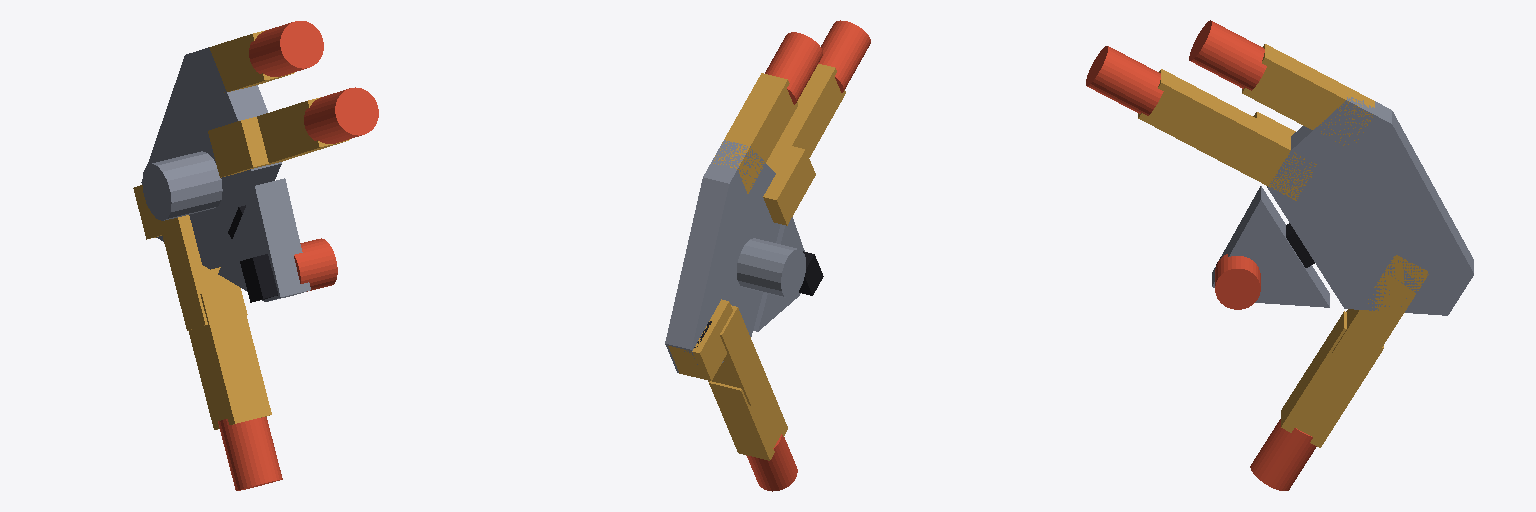
The robot description file, URDF, robot "g0004_c04":
<robot name="g0004_c04">
  <link name="palm">
    <visual name="palm_palm1">
      <origin xyz="0 0 0" rpy="0 0 0" />
      <geometry>
        <mesh filename="palm_palm1.obj" />
      </geometry>
      <material name="palm_palm1_mat">
        <color rgba="0.55 0.57 0.62 1" />
      </material>
    </visual>
    <collision>
      <origin xyz="0 0 0" rpy="0 0 0" />
      <geometry>
        <mesh filename="palm_palm1.obj" />
      </geometry>
    </collision>
    <visual name="palm_mount2">
      <origin xyz="0 0 0" rpy="0 0 0" />
      <geometry>
        <mesh filename="palm_mount2.obj" />
      </geometry>
      <material name="palm_mount2_mat">
        <color rgba="0.55 0.57 0.62 1" />
      </material>
    </visual>
    <collision>
      <origin xyz="0 0 0" rpy="0 0 0" />
      <geometry>
        <mesh filename="palm_mount2.obj" />
      </geometry>
    </collision>
    <visual name="palm_hinge3">
      <origin xyz="0 -0.0281458256 -0.01625" rpy="1.57079633 -1.04719755 -1.57079633" />
      <geometry>
        <box size="0.029 0.034 0.02" />
      </geometry>
      <material name="palm_hinge3_mat">
        <color rgba="0.15 0.15 0.17 1" />
      </material>
    </visual>
    <collision>
      <origin xyz="0 -0.0281458256 -0.01625" rpy="1.57079633 -1.04719755 -1.57079633" />
      <geometry>
        <box size="0.029 0.034 0.02" />
      </geometry>
    </collision>
    <visual name="palm_motor4">
      <origin xyz="0 -0.0335048095 0.03625" rpy="-1.57079633 -1.04719755 1.57079633" />
      <geometry>
        <box size="0.029 0.034 0.02" />
      </geometry>
      <material name="palm_motor4_mat">
        <color rgba="0.15 0.15 0.17 1" />
      </material>
    </visual>
    <collision>
      <origin xyz="0 -0.0335048095 0.03625" rpy="-1.57079633 -1.04719755 1.57079633" />
      <geometry>
        <box size="0.029 0.034 0.02" />
      </geometry>
    </collision>
    <visual name="palm_motor5">
      <origin xyz="0 0.00649519053 0.07625" rpy="-1.57079633 -1.04719755 1.57079633" />
      <geometry>
        <box size="0.029 0.034 0.02" />
      </geometry>
      <material name="palm_motor5_mat">
        <color rgba="0.15 0.15 0.17 1" />
      </material>
    </visual>
    <collision>
      <origin xyz="0 0.00649519053 0.07625" rpy="-1.57079633 -1.04719755 1.57079633" />
      <geometry>
        <box size="0.029 0.034 0.02" />
      </geometry>
    </collision>
    <visual name="palm_motor6">
      <origin xyz="-0.0045 0.0666996732 -0.0467548095" rpy="1.57079633 -0.523598776 -1.57079633" />
      <geometry>
        <box size="0.029 0.034 0.02" />
      </geometry>
      <material name="palm_motor6_mat">
        <color rgba="0.15 0.15 0.17 1" />
      </material>
    </visual>
    <collision>
      <origin xyz="-0.0045 0.0666996732 -0.0467548095" rpy="1.57079633 -0.523598776 -1.57079633" />
      <geometry>
        <box size="0.029 0.034 0.02" />
      </geometry>
    </collision>
    <inertial>
      <origin xyz="-4.78273951e-19 0.0154247075 0.00630883502" rpy="1.57079633 1.06011434 1.57079633" />
      <mass value="0.645684539" />
      <inertia ixx="0.000518185012" ixy="0" ixz="0" iyy="0.00138153175" iyz="0" izz="0.00183773105" />
    </inertial>
  </link>
  <link name="palm0">
    <visual name="palm0_palm1">
      <origin xyz="0 0 0" rpy="0 0 0" />
      <geometry>
        <mesh filename="palm0_palm1.obj" />
      </geometry>
      <material name="palm0_palm1_mat">
        <color rgba="0.55 0.57 0.62 1" />
      </material>
    </visual>
    <collision>
      <origin xyz="0 0 0" rpy="0 0 0" />
      <geometry>
        <mesh filename="palm0_palm1.obj" />
      </geometry>
    </collision>
    <visual name="palm0_motor2">
      <origin xyz="-0.007 -0.0453589838 -0.02" rpy="1.06057524e-16 -1.04719755 1.57079633" />
      <geometry>
        <box size="0.029 0.034 0.02" />
      </geometry>
      <material name="palm0_motor2_mat">
        <color rgba="0.15 0.15 0.17 1" />
      </material>
    </visual>
    <collision>
      <origin xyz="-0.007 -0.0453589838 -0.02" rpy="1.06057524e-16 -1.04719755 1.57079633" />
      <geometry>
        <box size="0.029 0.034 0.02" />
      </geometry>
    </collision>
    <inertial>
      <origin xyz="4.09649473e-19 -0.0243405859 -0.0132614619" rpy="1.57079633 1.00332897 1.57079633" />
      <mass value="0.150769922" />
      <inertia ixx="4.64195812e-05" ixy="0" ixz="0" iyy="7.19391099e-05" iyz="0" izz="0.000103884779" />
    </inertial>
  </link>
  <link name="f0_link0">
    <visual name="f0_link0_link1">
      <origin xyz="0.019 0 -6.9388939e-18" rpy="-1.57079633 -0 -1.57079633" />
      <geometry>
        <cylinder radius="0.0165" length="0.029" />
      </geometry>
      <material name="f0_link0_link1_mat">
        <color rgba="0.85 0.35 0.25 1" />
      </material>
    </visual>
    <collision>
      <origin xyz="0.019 0 -6.9388939e-18" rpy="-1.57079633 -0 -1.57079633" />
      <geometry>
        <cylinder radius="0.0165" length="0.029" />
      </geometry>
    </collision>
    <inertial>
      <origin xyz="0.019 0 0" rpy="0 0 0" />
      <mass value="0.0763354" />
      <inertia ixx="9.49466441e-06" ixy="0" ixz="0" iyy="2.24143997e-05" iyz="0" izz="2.24143997e-05" />
    </inertial>
  </link>
  <link name="f1_link0">
    <visual name="f1_link0_link1">
      <origin xyz="0.014 -0.00625 -3.46944695e-18" rpy="0 7.03853194e-17 0" />
      <geometry>
        <box size="0.052 0.0365 0.033" />
      </geometry>
      <material name="f1_link0_link1_mat">
        <color rgba="0.80 0.62 0.30 1" />
      </material>
    </visual>
    <collision>
      <origin xyz="0.014 -0.00625 -3.46944695e-18" rpy="0 7.03853194e-17 0" />
      <geometry>
        <box size="0.052 0.0365 0.033" />
      </geometry>
    </collision>
    <inertial>
      <origin xyz="0.014 -0.00625 0" rpy="0 0 0" />
      <mass value="0.1096095" />
      <inertia ixx="2.21160002e-05" ixy="0" ixz="0" iyy="3.46457361e-05" iyz="0" izz="3.6867612e-05" />
    </inertial>
  </link>
  <link name="f1_link1">
    <visual name="f1_link1_link1">
      <origin xyz="0.03875 0 1.73472348e-18" rpy="0 7.03853194e-17 0" />
      <geometry>
        <box size="0.1015 0.024 0.033" />
      </geometry>
      <material name="f1_link1_link1_mat">
        <color rgba="0.80 0.62 0.30 1" />
      </material>
    </visual>
    <collision>
      <origin xyz="0.03875 0 1.73472348e-18" rpy="0 7.03853194e-17 0" />
      <geometry>
        <box size="0.1015 0.024 0.033" />
      </geometry>
    </collision>
    <inertial>
      <origin xyz="0.03875 0 0" rpy="0 0 0" />
      <mass value="0.140679" />
      <inertia ixx="1.95192113e-05" ixy="0" ixz="0" iyy="0.000133542472" iyz="0" izz="0.000127528444" />
    </inertial>
  </link>
  <link name="f1_link2">
    <visual name="f1_link2_link1">
      <origin xyz="0.029 0 1.12757026e-17" rpy="-1.57079633 -0 -1.57079633" />
      <geometry>
        <cylinder radius="0.0165" length="0.049" />
      </geometry>
      <material name="f1_link2_link1_mat">
        <color rgba="0.85 0.35 0.25 1" />
      </material>
    </visual>
    <collision>
      <origin xyz="0.029 0 1.12757026e-17" rpy="-1.57079633 -0 -1.57079633" />
      <geometry>
        <cylinder radius="0.0165" length="0.049" />
      </geometry>
    </collision>
    <inertial>
      <origin xyz="0.029 0 0" rpy="0 0 0" />
      <mass value="0.106270851" />
      <inertia ixx="1.35696277e-05" ixy="0" ixz="0" iyy="5.30015704e-05" iyz="0" izz="5.30015704e-05" />
    </inertial>
  </link>
  <link name="f2_link0">
    <visual name="f2_link0_link1">
      <origin xyz="0.03375 0 0" rpy="0 7.03853194e-17 0" />
      <geometry>
        <box size="0.0915 0.024 0.033" />
      </geometry>
      <material name="f2_link0_link1_mat">
        <color rgba="0.80 0.62 0.30 1" />
      </material>
    </visual>
    <collision>
      <origin xyz="0.03375 0 0" rpy="0 7.03853194e-17 0" />
      <geometry>
        <box size="0.0915 0.024 0.033" />
      </geometry>
    </collision>
    <inertial>
      <origin xyz="0.03375 0 0" rpy="0 0 0" />
      <mass value="0.126819" />
      <inertia ixx="1.75961363e-05" ixy="0" ixz="0" iyy="9.99888553e-05" iyz="0" izz="9.45673431e-05" />
    </inertial>
  </link>
  <link name="f2_link1">
    <visual name="f2_link1_link1">
      <origin xyz="0.029 0 -6.9388939e-18" rpy="-1.57079633 -0 -1.57079633" />
      <geometry>
        <cylinder radius="0.0165" length="0.049" />
      </geometry>
      <material name="f2_link1_link1_mat">
        <color rgba="0.85 0.35 0.25 1" />
      </material>
    </visual>
    <collision>
      <origin xyz="0.029 0 -6.9388939e-18" rpy="-1.57079633 -0 -1.57079633" />
      <geometry>
        <cylinder radius="0.0165" length="0.049" />
      </geometry>
    </collision>
    <inertial>
      <origin xyz="0.029 0 0" rpy="0 0 0" />
      <mass value="0.106270851" />
      <inertia ixx="1.35696277e-05" ixy="0" ixz="0" iyy="5.30015704e-05" iyz="0" izz="5.30015704e-05" />
    </inertial>
  </link>
  <link name="f3_link0">
    <visual name="f3_link0_link1">
      <origin xyz="-0.00625 0 -0.0165" rpy="0 4.06369831e-17 0" />
      <geometry>
        <box size="0.0365 0.029 0.053" />
      </geometry>
      <material name="f3_link0_link1_mat">
        <color rgba="0.80 0.62 0.30 1" />
      </material>
    </visual>
    <collision>
      <origin xyz="-0.00625 0 -0.0165" rpy="0 4.06369831e-17 0" />
      <geometry>
        <box size="0.0365 0.029 0.053" />
      </geometry>
    </collision>
    <inertial>
      <origin xyz="-0.00625 0 -0.0165" rpy="0 0 0" />
      <mass value="0.098175875" />
      <inertia ixx="2.98618286e-05" ixy="0" ixz="0" iyy="3.38809035e-05" iyz="0" izz="1.778006e-05" />
    </inertial>
  </link>
  <link name="f3_link1">
    <visual name="f3_link1_link1">
      <origin xyz="0.03375 0 6.9388939e-18" rpy="0 4.06369831e-17 0" />
      <geometry>
        <box size="0.0915 0.033 0.029" />
      </geometry>
      <material name="f3_link1_link1_mat">
        <color rgba="0.80 0.62 0.30 1" />
      </material>
    </visual>
    <collision>
      <origin xyz="0.03375 0 6.9388939e-18" rpy="0 4.06369831e-17 0" />
      <geometry>
        <box size="0.0915 0.033 0.029" />
      </geometry>
    </collision>
    <inertial>
      <origin xyz="0.03375 0 0" rpy="0 0 0" />
      <mass value="0.153239625" />
      <inertia ixx="2.46460397e-05" ixy="0" ixz="0" iyy="0.000117652915" iyz="0" izz="0.000120819867" />
    </inertial>
  </link>
  <link name="f3_link2">
    <visual name="f3_link2_link1">
      <origin xyz="0.03375 0 -1.38777878e-17" rpy="0 4.06369831e-17 0" />
      <geometry>
        <box size="0.0915 0.029 0.033" />
      </geometry>
      <material name="f3_link2_link1_mat">
        <color rgba="0.80 0.62 0.30 1" />
      </material>
    </visual>
    <collision>
      <origin xyz="0.03375 0 -1.38777878e-17" rpy="0 4.06369831e-17 0" />
      <geometry>
        <box size="0.0915 0.029 0.033" />
      </geometry>
    </collision>
    <inertial>
      <origin xyz="0.03375 0 0" rpy="0 0 0" />
      <mass value="0.153239625" />
      <inertia ixx="2.46460397e-05" ixy="0" ixz="0" iyy="0.000120819867" iyz="0" izz="0.000117652915" />
    </inertial>
  </link>
  <link name="f3_link3">
    <visual name="f3_link3_link1">
      <origin xyz="0.029 0 1.04083409e-17" rpy="-1.57079633 -0 -1.57079633" />
      <geometry>
        <cylinder radius="0.0165" length="0.049" />
      </geometry>
      <material name="f3_link3_link1_mat">
        <color rgba="0.85 0.35 0.25 1" />
      </material>
    </visual>
    <collision>
      <origin xyz="0.029 0 1.04083409e-17" rpy="-1.57079633 -0 -1.57079633" />
      <geometry>
        <cylinder radius="0.0165" length="0.049" />
      </geometry>
    </collision>
    <inertial>
      <origin xyz="0.029 0 0" rpy="0 0 0" />
      <mass value="0.106270851" />
      <inertia ixx="1.35696277e-05" ixy="0" ixz="0" iyy="5.30015704e-05" iyz="0" izz="5.30015704e-05" />
    </inertial>
  </link>
  <joint name="palm0_joint" type="revolute">
    <parent link="palm" />
    <child link="palm0" />
    <origin xyz="0 -0.0346410162 -0.02" rpy="0 0 0" />
    <axis xyz="0 -0.5 0.866025404" />
    <limit effort="0.5" lower="-0.523598776" upper="0.523598776" velocity="5" />
    <dynamics damping="0.0775033" friction="0" />
  </joint>
  <joint name="f0_j0" type="revolute">
    <parent link="palm0" />
    <child link="f0_link0" />
    <origin xyz="0.0005 -0.0453589838 -0.02" rpy="1.04719755 5.30287619e-17 -3.061617e-17" />
    <axis xyz="0 1 6.123234e-17" />
    <limit effort="0.5" lower="-0.523598776" upper="0.523598776" velocity="5" />
    <dynamics damping="0.0775033" friction="0" />
  </joint>
  <joint name="f1_j0" type="revolute">
    <parent link="palm" />
    <child link="f1_link0" />
    <origin xyz="0 -0.04 0.04" rpy="-0 -0.523598776 -1.57079633" />
    <axis xyz="0 0 1" />
    <limit effort="0.5" lower="-0.523598776" upper="1.57079633" velocity="5" />
    <dynamics damping="0.0775033" friction="0" />
  </joint>
  <joint name="f1_j1" type="revolute">
    <parent link="f1_link0" />
    <child link="f1_link1" />
    <origin xyz="0.03 0 0" rpy="0 0 0" />
    <axis xyz="0 0 1" />
    <limit effort="0.5" lower="-0.523598776" upper="1.57079633" velocity="5" />
    <dynamics damping="0.0775033" friction="0" />
  </joint>
  <joint name="f1_j2" type="revolute">
    <parent link="f1_link1" />
    <child link="f1_link2" />
    <origin xyz="0.08 0 0" rpy="0 0 0" />
    <axis xyz="0 0 1" />
    <limit effort="0.5" lower="-0.523598776" upper="1.57079633" velocity="5" />
    <dynamics damping="0.0775033" friction="0" />
  </joint>
  <joint name="f2_j0" type="revolute">
    <parent link="palm" />
    <child link="f2_link0" />
    <origin xyz="0 0 0.08" rpy="-0 -0.523598776 -1.57079633" />
    <axis xyz="0 0 1" />
    <limit effort="0.5" lower="-0.523598776" upper="1.57079633" velocity="5" />
    <dynamics damping="0.0775033" friction="0" />
  </joint>
  <joint name="f2_j1" type="revolute">
    <parent link="f2_link0" />
    <child link="f2_link1" />
    <origin xyz="0.07 0 0" rpy="0 0 0" />
    <axis xyz="0 0 1" />
    <limit effort="0.5" lower="-0.523598776" upper="1.57079633" velocity="5" />
    <dynamics damping="0.0775033" friction="0" />
  </joint>
  <joint name="f3_j0" type="revolute">
    <parent link="palm" />
    <child link="f3_link0" />
    <origin xyz="-0.0045 0.04 -0.04" rpy="0 1.04719755 -1.57079633" />
    <axis xyz="0 0 1" />
    <limit effort="0.5" lower="-0.523598776" upper="1.57079633" velocity="5" />
    <dynamics damping="0.0775033" friction="0" />
  </joint>
  <joint name="f3_j1" type="revolute">
    <parent link="f3_link0" />
    <child link="f3_link1" />
    <origin xyz="0 0 0" rpy="0 0 0" />
    <axis xyz="0 1 6.123234e-17" />
    <limit effort="0.5" lower="-0.523598776" upper="0.523598776" velocity="5" />
    <dynamics damping="0.0775033" friction="0" />
  </joint>
  <joint name="f3_j2" type="revolute">
    <parent link="f3_link1" />
    <child link="f3_link2" />
    <origin xyz="0.07 0 0" rpy="0 0 0" />
    <axis xyz="0 0 1" />
    <limit effort="0.5" lower="-0.523598776" upper="1.57079633" velocity="5" />
    <dynamics damping="0.0775033" friction="0" />
  </joint>
  <joint name="f3_j3" type="revolute">
    <parent link="f3_link2" />
    <child link="f3_link3" />
    <origin xyz="0.07 0 0" rpy="0 0 0" />
    <axis xyz="0 1 6.123234e-17" />
    <limit effort="0.5" lower="-0.523598776" upper="0.523598776" velocity="5" />
    <dynamics damping="0.0775033" friction="0" />
  </joint>
</robot>

--- Facts derived from the render (not from the file) ---
Views: 3 orthographic renders of the robot side by side, from view 1: azimuth 30°, elevation 25°; view 2: azimuth 150°, elevation 25°; view 3: azimuth 270°, elevation 25°.
Model g0004_c04 with 12 links and 11 joints (11 revolute), rooted at palm, posed every joint at zero.
Visible links, largest first — view 1: palm, f3_link2, palm0, f3_link1, f3_link3, f1_link2, f2_link1, f1_link0, f1_link1, f2_link0, f0_link0, f3_link0; view 2: palm, f2_link0, f3_link2, f1_link1, f3_link1, f1_link0, f2_link1, f3_link0, f1_link2, palm0, f3_link3; view 3: palm, palm0, f1_link1, f3_link2, f2_link0, f3_link1, f2_link1, f1_link2, f1_link0, f3_link3, f0_link0.
Link boxes in pixels (<box>): palm: <box>141,47,281,269</box>; f3_link2: <box>189,285,271,429</box>; palm0: <box>218,178,310,302</box>; f3_link1: <box>159,215,247,330</box>; f3_link3: <box>218,417,282,490</box>; f1_link2: <box>304,87,378,143</box>; f2_link1: <box>249,21,323,76</box>; f1_link0: <box>208,117,294,177</box>; f1_link1: <box>257,97,349,162</box>; f2_link0: <box>209,30,294,92</box>; f0_link0: <box>294,238,337,291</box>; f3_link0: <box>133,185,161,239</box>; palm: <box>665,140,805,372</box>; f2_link0: <box>713,73,797,193</box>; f3_link2: <box>709,378,787,460</box>; f1_link1: <box>767,64,845,167</box>; f3_link1: <box>708,305,766,405</box>; f1_link0: <box>763,142,815,225</box>; f2_link1: <box>765,32,822,104</box>; f3_link0: <box>668,299,732,380</box>; f1_link2: <box>818,20,870,92</box>; palm0: <box>753,217,823,331</box>; f3_link3: <box>746,434,797,491</box>; palm: <box>1267,97,1473,315</box>; palm0: <box>1212,186,1329,307</box>; f1_link1: <box>1138,69,1282,181</box>; f3_link2: <box>1281,311,1383,447</box>; f2_link0: <box>1242,44,1374,145</box>; f3_link1: <box>1332,255,1428,371</box>; f2_link1: <box>1189,20,1266,90</box>; f1_link2: <box>1086,46,1163,115</box>; f1_link0: <box>1234,112,1316,200</box>; f3_link3: <box>1250,419,1316,490</box>; f0_link0: <box>1215,254,1260,309</box>.
Bounding box of the posed robot: 0.086 × 0.2803 × 0.3719 m (x, y, z).
Meshes: 3 distinct files referenced, 3 mesh visuals loaded (3 OBJ).
